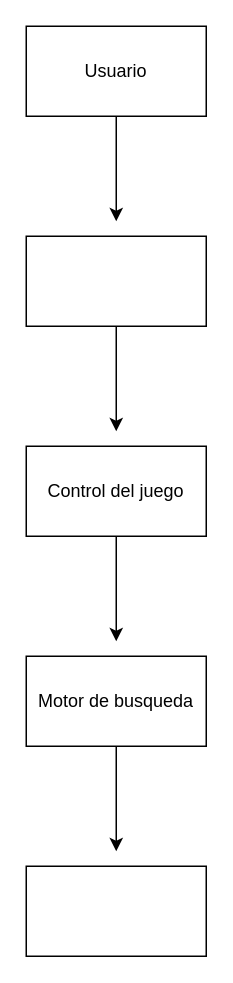
The diagram is 233 pixels wide and 983 high, and some of its shapes have lost their labels. The centre of each missing label's shape, as x and y in pixels:
Interfaz del juego: the point at 115,280
Resultado final: the point at 115,910
